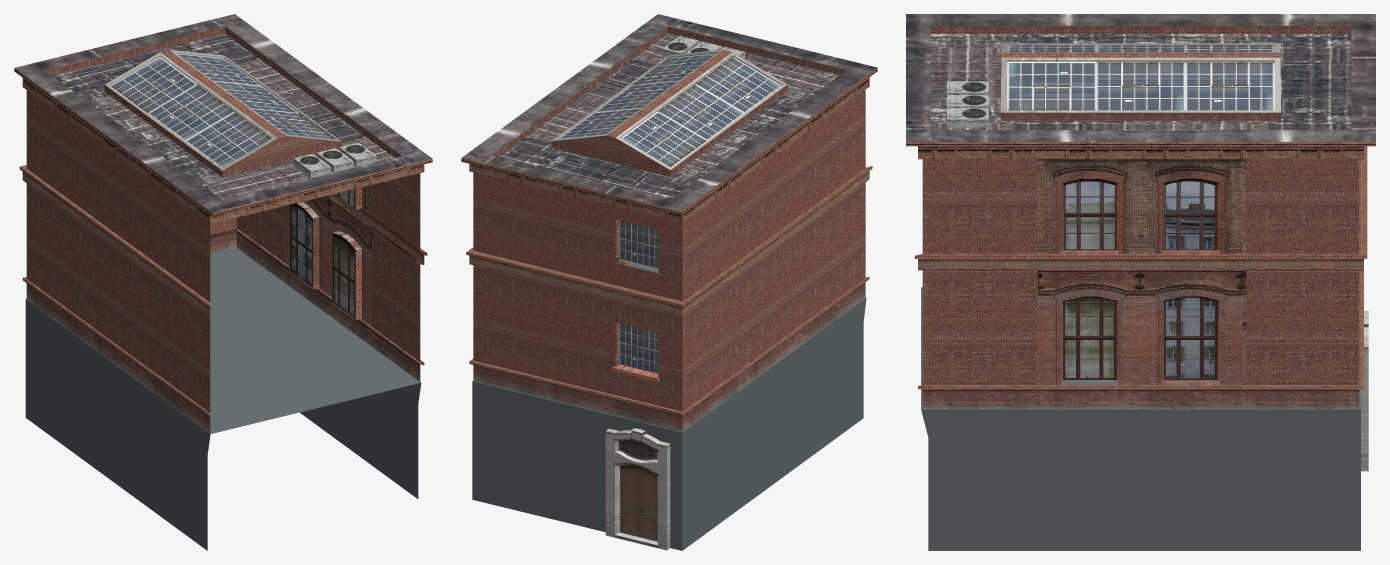
The model's file is alleyBldg6.fbx.
The picture shows the model from 3 angles, left to right: view 1: azimuth 30°, elevation 25°; view 2: azimuth 150°, elevation 25°; view 3: azimuth 270°, elevation 25°; orthographic projection. The views are drawn at different scales.
Visible parts, largest first — view 1: pasted__K_Building_A12_00; view 2: pasted__K_Building_A12_00; view 3: pasted__K_Building_A12_00.
Part boxes in pixels (x1,y1,x2,y2): pasted__K_Building_A12_00: (14,14,432,550); pasted__K_Building_A12_00: (461,14,877,550); pasted__K_Building_A12_00: (906,14,1375,550).
Size of the model in its own units: 617 by 978 by 958.
